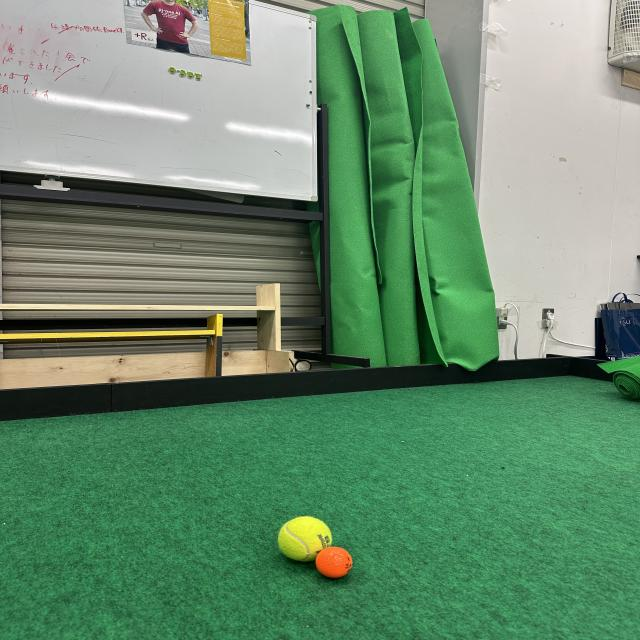ball: (314, 546, 354, 579)
